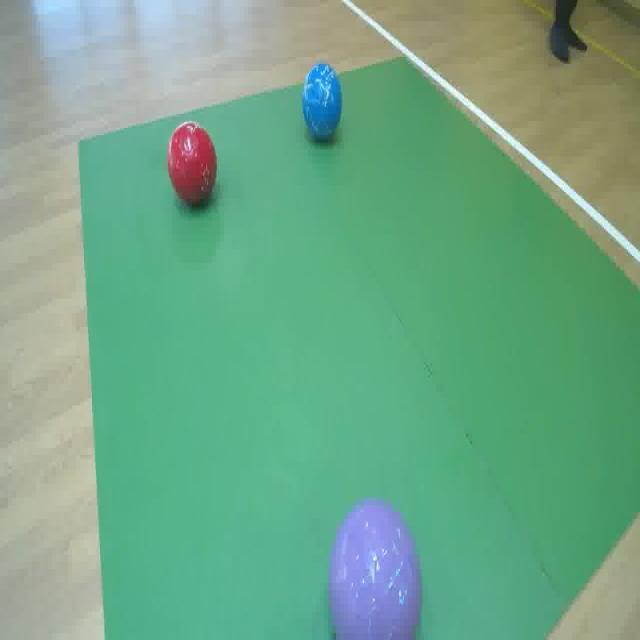blue_ball: (295, 55, 351, 146)
purple_ball: (315, 482, 445, 640)
red_ball: (166, 110, 222, 215)
